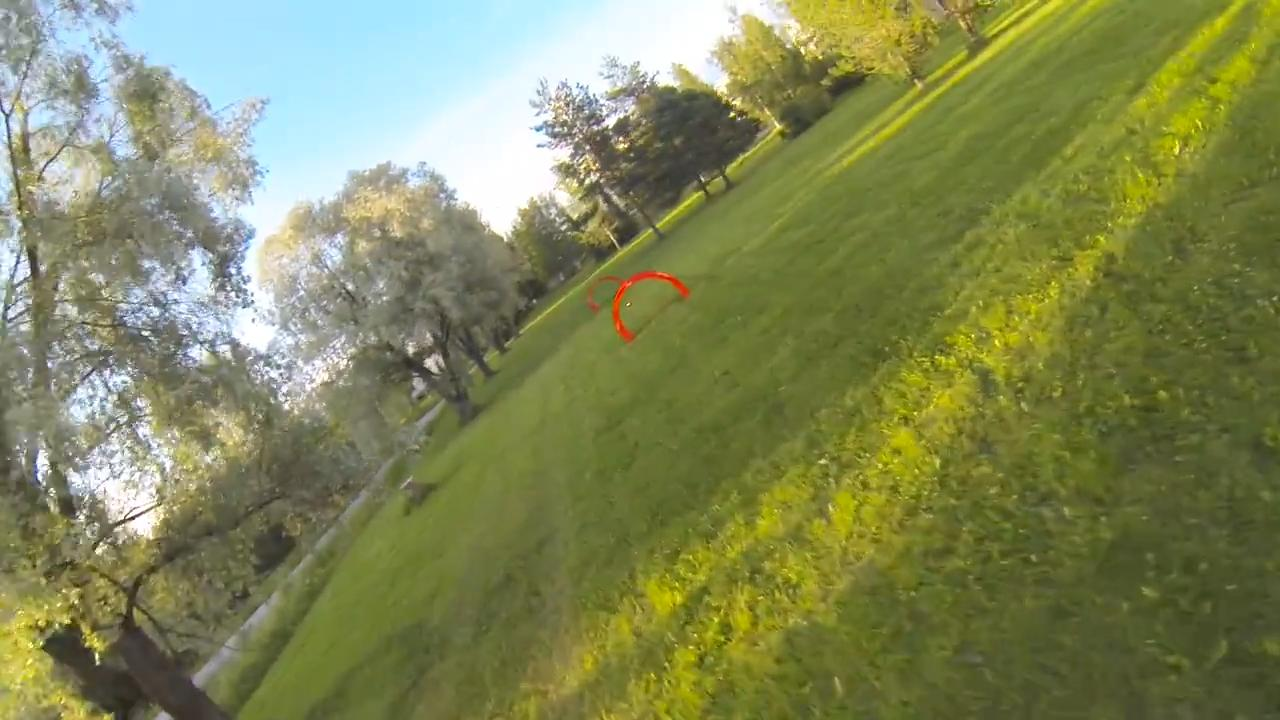gate: (610, 270, 694, 347)
